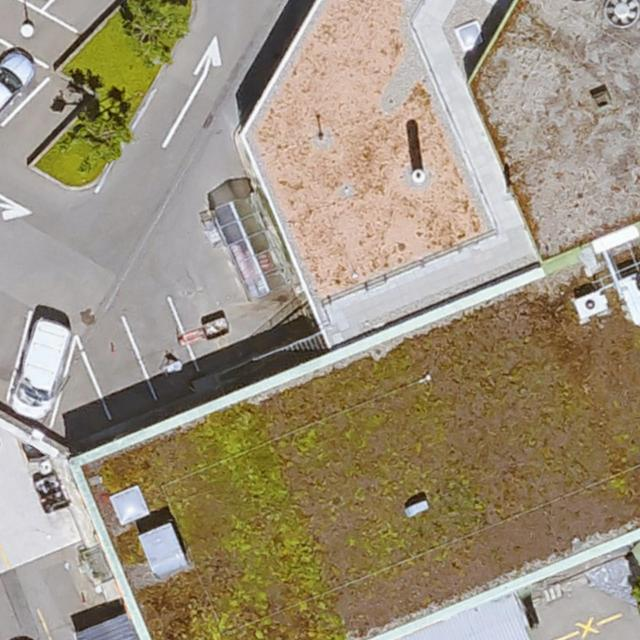tree: (123, 0, 190, 58), (78, 105, 131, 164)
